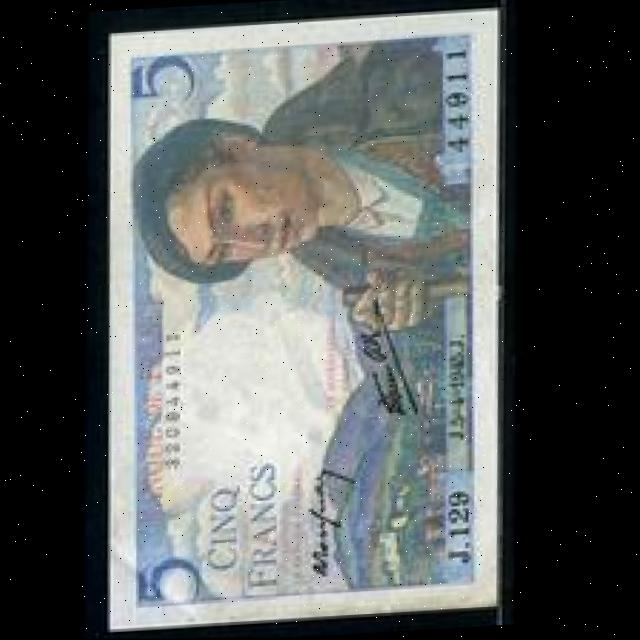banknote: (80, 8, 523, 631), (129, 544, 225, 616), (118, 42, 204, 115)
